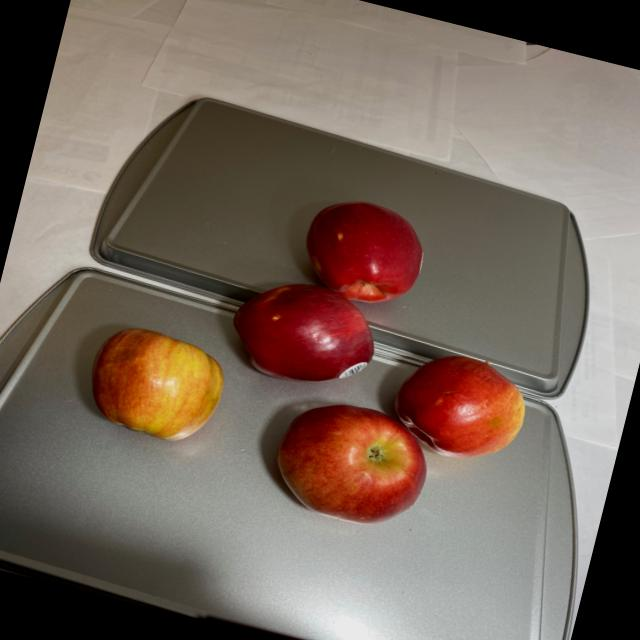apple: (67, 144, 561, 548)
